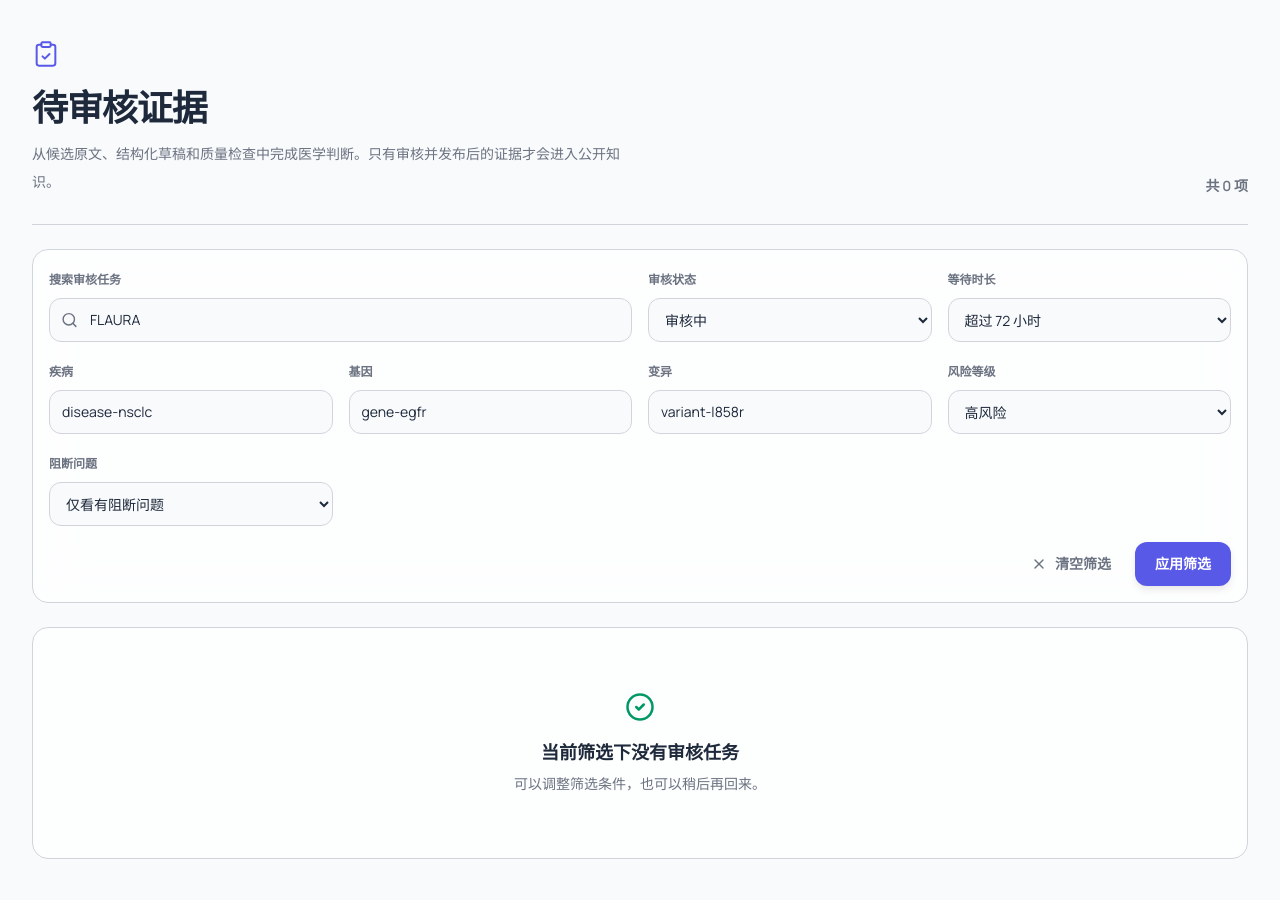
Evidex operations frontend › restores the complete review queue filter set from the URL and clears it
Expected: the dropdown labelled "等待时长" shows "超过 72 小时", left=948, top=298, right=1231, bottom=342
Expected: the field labelled "疾病" holds "disease-nsclc", left=49, top=390, right=332, bottom=434
Click the button "清空筛选": (1071,564) left=1015, top=542, right=1127, bottom=586
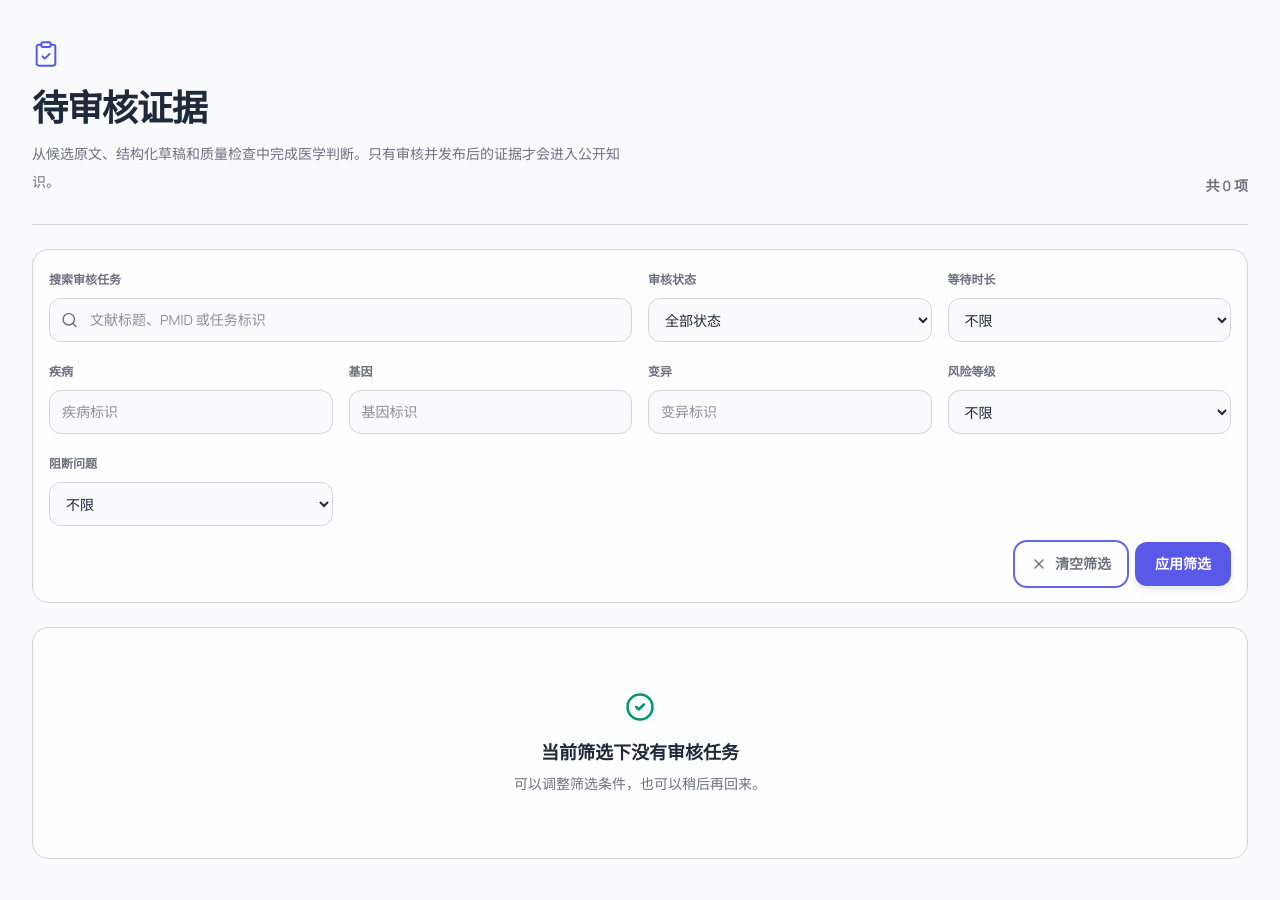
Result: the dropdown labelled "等待时长" shows "不限" at left=948, top=298, right=1231, bottom=342
Result: the field labelled "疾病" is empty at left=49, top=390, right=332, bottom=434
Result: the field labelled "基因" is empty at left=348, top=390, right=632, bottom=434
